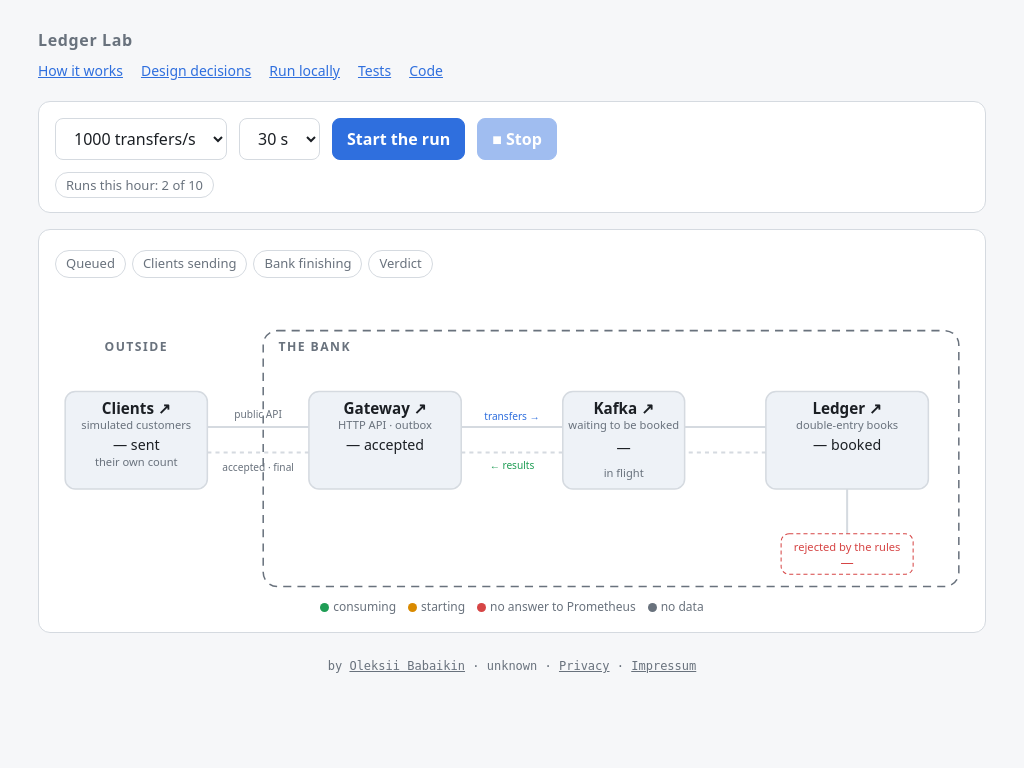
session page › says the browser gave no random id when it cannot make one, and sends nothing
Step 1. Click the button "Start the run" → [399, 139], box [332,118,465,160]
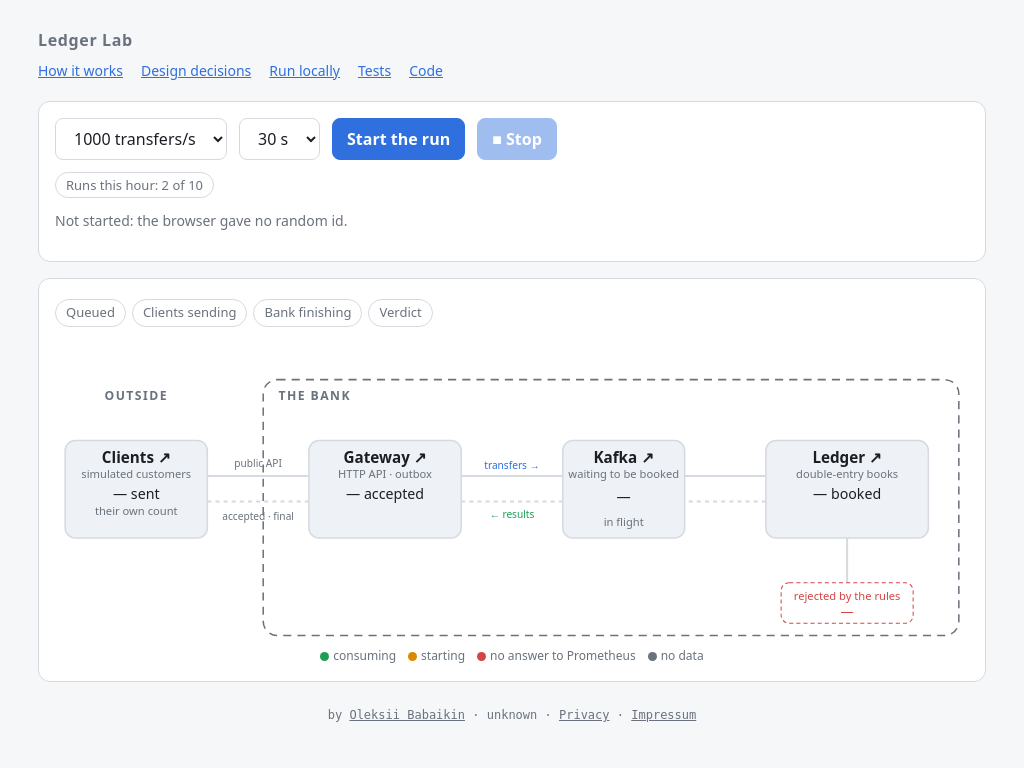
Check: the message reads "Not started: the browser gave no random id.", box [55,211,347,230]
